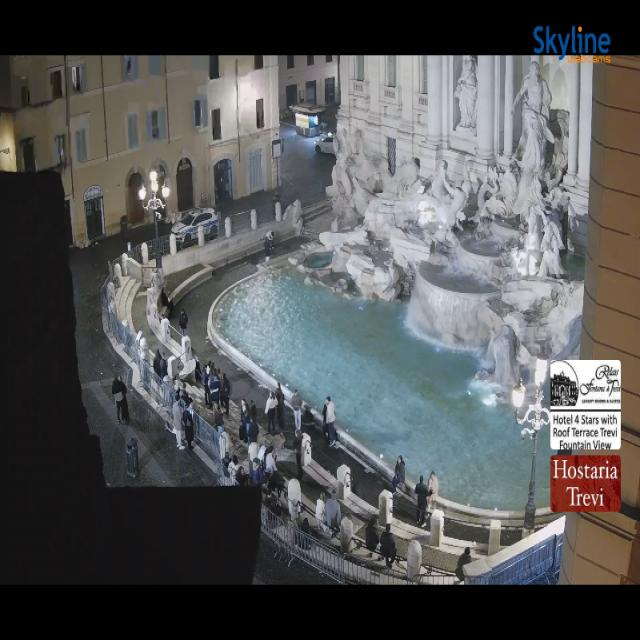person: (320, 490, 341, 534), (248, 443, 270, 481), (380, 524, 396, 568), (172, 396, 184, 450), (325, 490, 341, 530), (116, 376, 129, 424), (112, 379, 126, 423), (315, 492, 330, 533), (415, 476, 427, 527), (455, 548, 472, 582), (365, 517, 379, 556), (160, 352, 177, 384), (325, 397, 336, 445), (264, 485, 281, 516), (112, 376, 123, 423), (263, 446, 279, 478), (392, 455, 405, 494), (325, 397, 336, 443), (183, 399, 193, 449), (180, 384, 195, 417), (286, 496, 303, 525), (265, 392, 277, 432), (119, 377, 129, 424), (265, 392, 277, 431), (268, 471, 286, 497), (162, 375, 179, 402), (427, 471, 438, 512), (215, 172, 230, 202), (297, 518, 311, 550), (215, 172, 230, 201), (274, 389, 284, 432), (164, 377, 179, 405), (428, 471, 439, 509), (209, 370, 220, 407), (265, 471, 281, 496), (292, 390, 302, 430), (295, 431, 303, 479), (221, 373, 230, 415), (268, 489, 282, 516), (276, 383, 284, 430), (206, 362, 215, 403), (161, 288, 174, 316), (239, 399, 247, 443), (252, 458, 263, 488), (264, 451, 278, 474), (206, 369, 214, 409), (248, 443, 259, 472), (223, 452, 235, 478), (156, 351, 167, 379), (207, 362, 214, 405), (323, 403, 330, 444), (150, 349, 161, 375), (208, 368, 215, 408), (213, 405, 223, 432), (248, 419, 259, 443), (224, 452, 235, 476), (164, 411, 175, 435), (236, 465, 248, 487), (292, 503, 302, 529), (228, 455, 239, 478), (150, 270, 162, 291), (179, 308, 188, 336), (153, 350, 162, 377), (193, 356, 202, 383), (174, 377, 185, 399), (208, 405, 219, 427), (236, 465, 247, 487), (203, 365, 209, 405), (223, 452, 231, 482), (272, 433, 285, 451), (245, 405, 251, 444), (258, 444, 267, 470), (265, 231, 274, 257), (212, 404, 223, 425), (180, 383, 191, 404), (246, 400, 258, 419), (194, 356, 202, 382), (180, 390, 192, 407), (272, 193, 280, 218), (216, 406, 223, 434), (166, 292, 174, 316), (173, 377, 181, 401), (265, 437, 275, 456), (176, 380, 185, 401), (245, 400, 254, 421), (222, 451, 231, 472), (160, 353, 167, 378), (173, 376, 181, 397), (174, 378, 182, 399), (240, 399, 247, 423), (274, 383, 283, 401), (264, 235, 270, 262), (265, 232, 273, 252), (322, 403, 327, 433), (250, 400, 257, 421), (219, 369, 223, 405), (244, 400, 250, 424), (209, 363, 218, 379), (267, 231, 274, 251), (322, 402, 327, 429), (210, 363, 217, 378), (207, 361, 214, 375), (209, 362, 215, 377), (126, 58, 131, 75), (270, 231, 274, 252), (163, 373, 171, 383), (215, 184, 219, 201), (217, 368, 222, 379), (78, 549, 80, 561)
